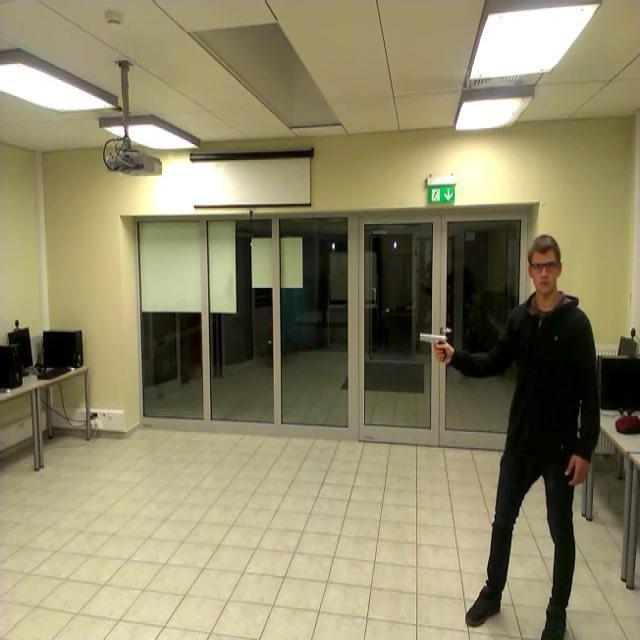weapon: (418, 332, 450, 364)
